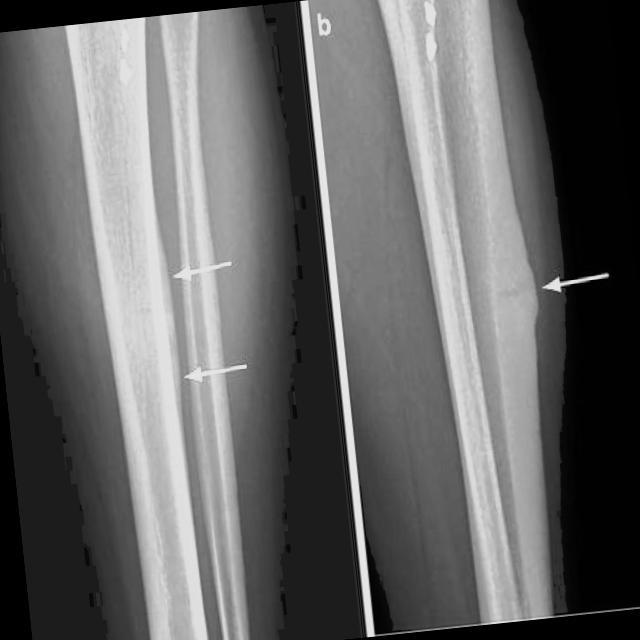HairLine Fracture: (494, 274, 532, 306)
